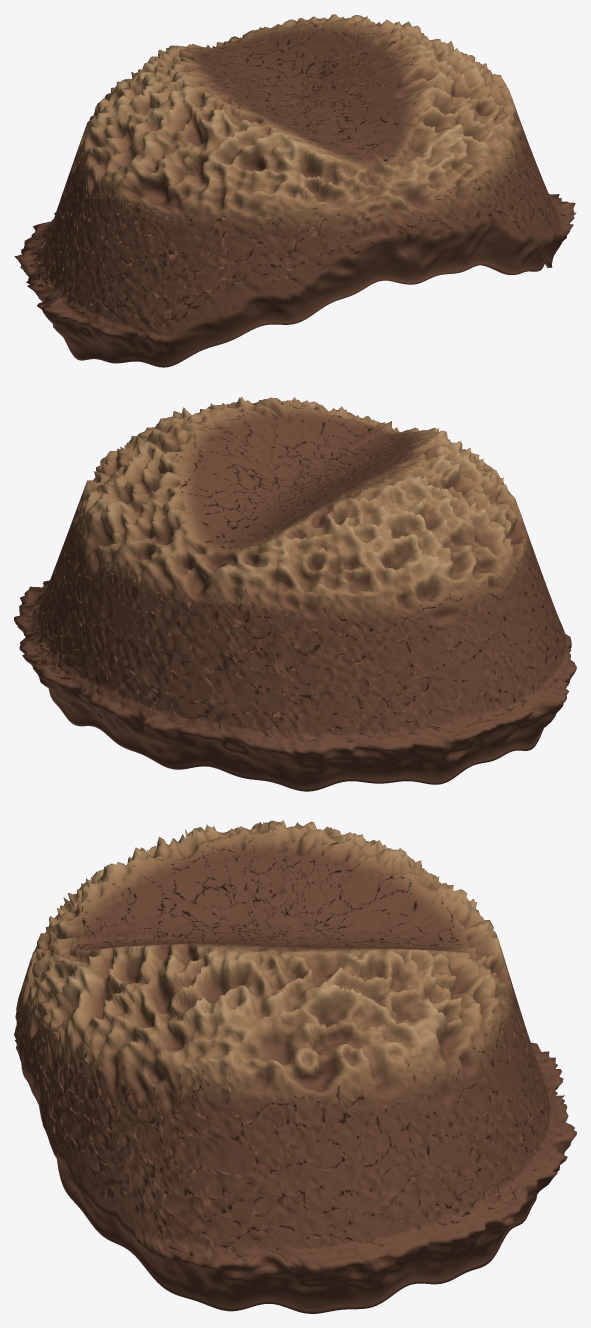
The model's file is Ombre-2d337a1d5c56253-hair.glb.
3 renders of one model, top to bottom at view 1: azimuth 30°, elevation 25°; view 2: azimuth 150°, elevation 25°; view 3: azimuth 270°, elevation 25°, orthographic. The views are drawn at different scales.
Visible parts, largest first — view 1: 226 hair / Hair252 / dense natural coil groups.001; view 2: 226 hair / Hair252 / dense natural coil groups.001; view 3: 226 hair / Hair252 / dense natural coil groups.001.
Part boxes in pixels (<box>): 226 hair / Hair252 / dense natural coil groups.001: <box>14,14,576,367</box>; 226 hair / Hair252 / dense natural coil groups.001: <box>14,396,576,791</box>; 226 hair / Hair252 / dense natural coil groups.001: <box>14,820,576,1313</box>.
Size of the model in its own units: 1.09 by 0.4911 by 0.8485.
Materials: 1 (1 with a texture image).
